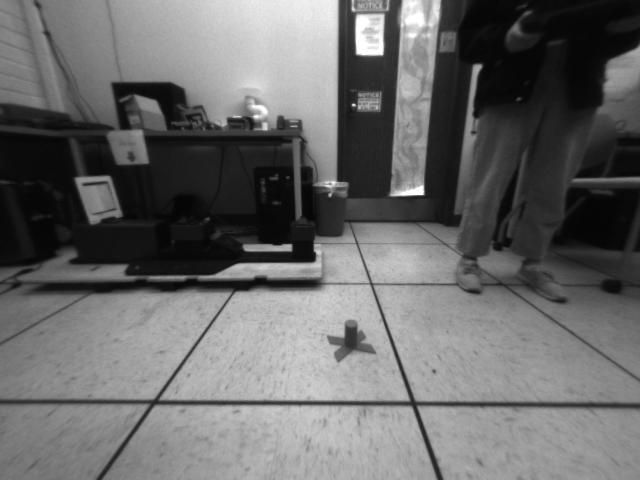x: (326, 318, 378, 363)
